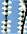gap: (1, 10, 12, 24)
